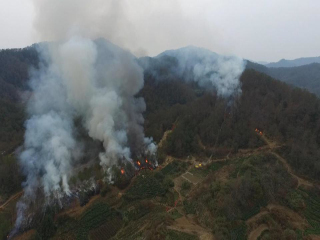smoke: (15, 10, 160, 200), (182, 41, 249, 105)
